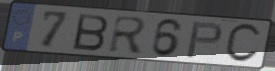6: (150, 17, 184, 59)
7: (40, 10, 69, 50)
B: (71, 12, 111, 53)
C: (222, 22, 263, 65)
P: (184, 21, 225, 60)
R: (107, 14, 150, 55)
